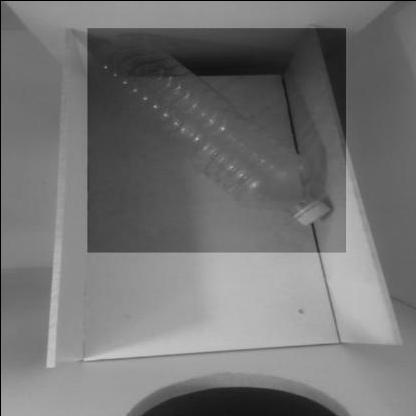plastic_bottles: (87, 27, 345, 251)
